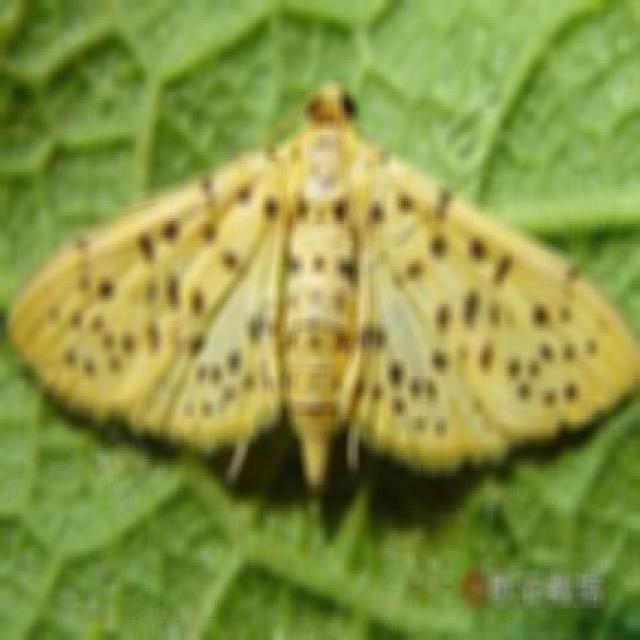peach borer: (7, 79, 636, 498)
